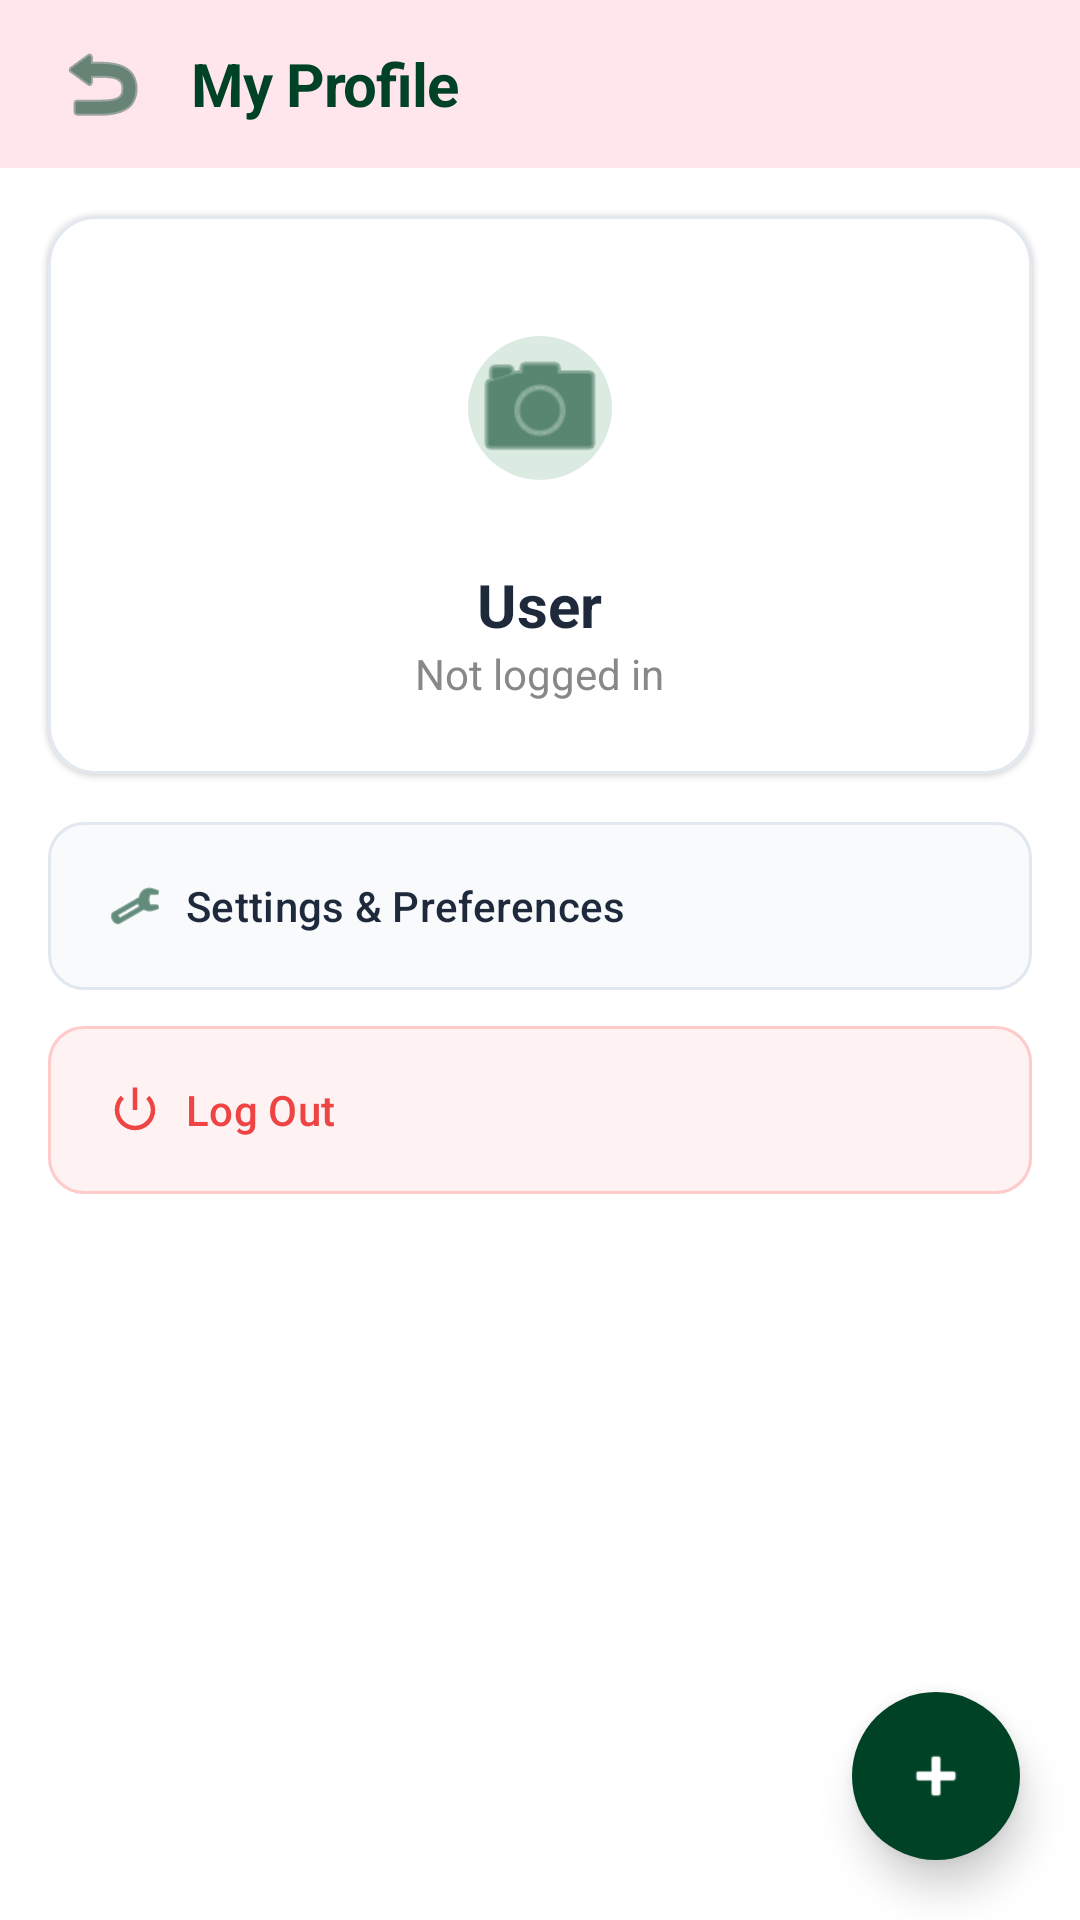

Locate icon controls on the screen. Image size 1080 x 1920, boxes as rect(x1, y1, x2, y2).
Go Back: rect(69, 53, 138, 116)
Quick Actions: rect(852, 1692, 1020, 1860)
